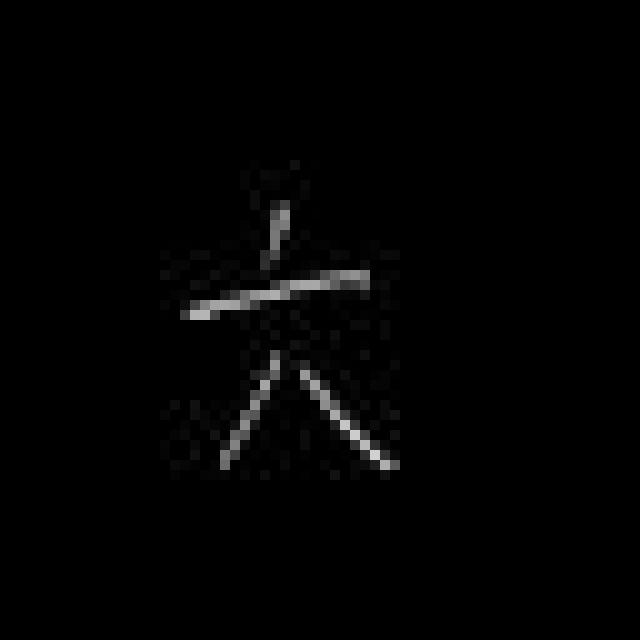6 -six-: (181, 194, 402, 493)
